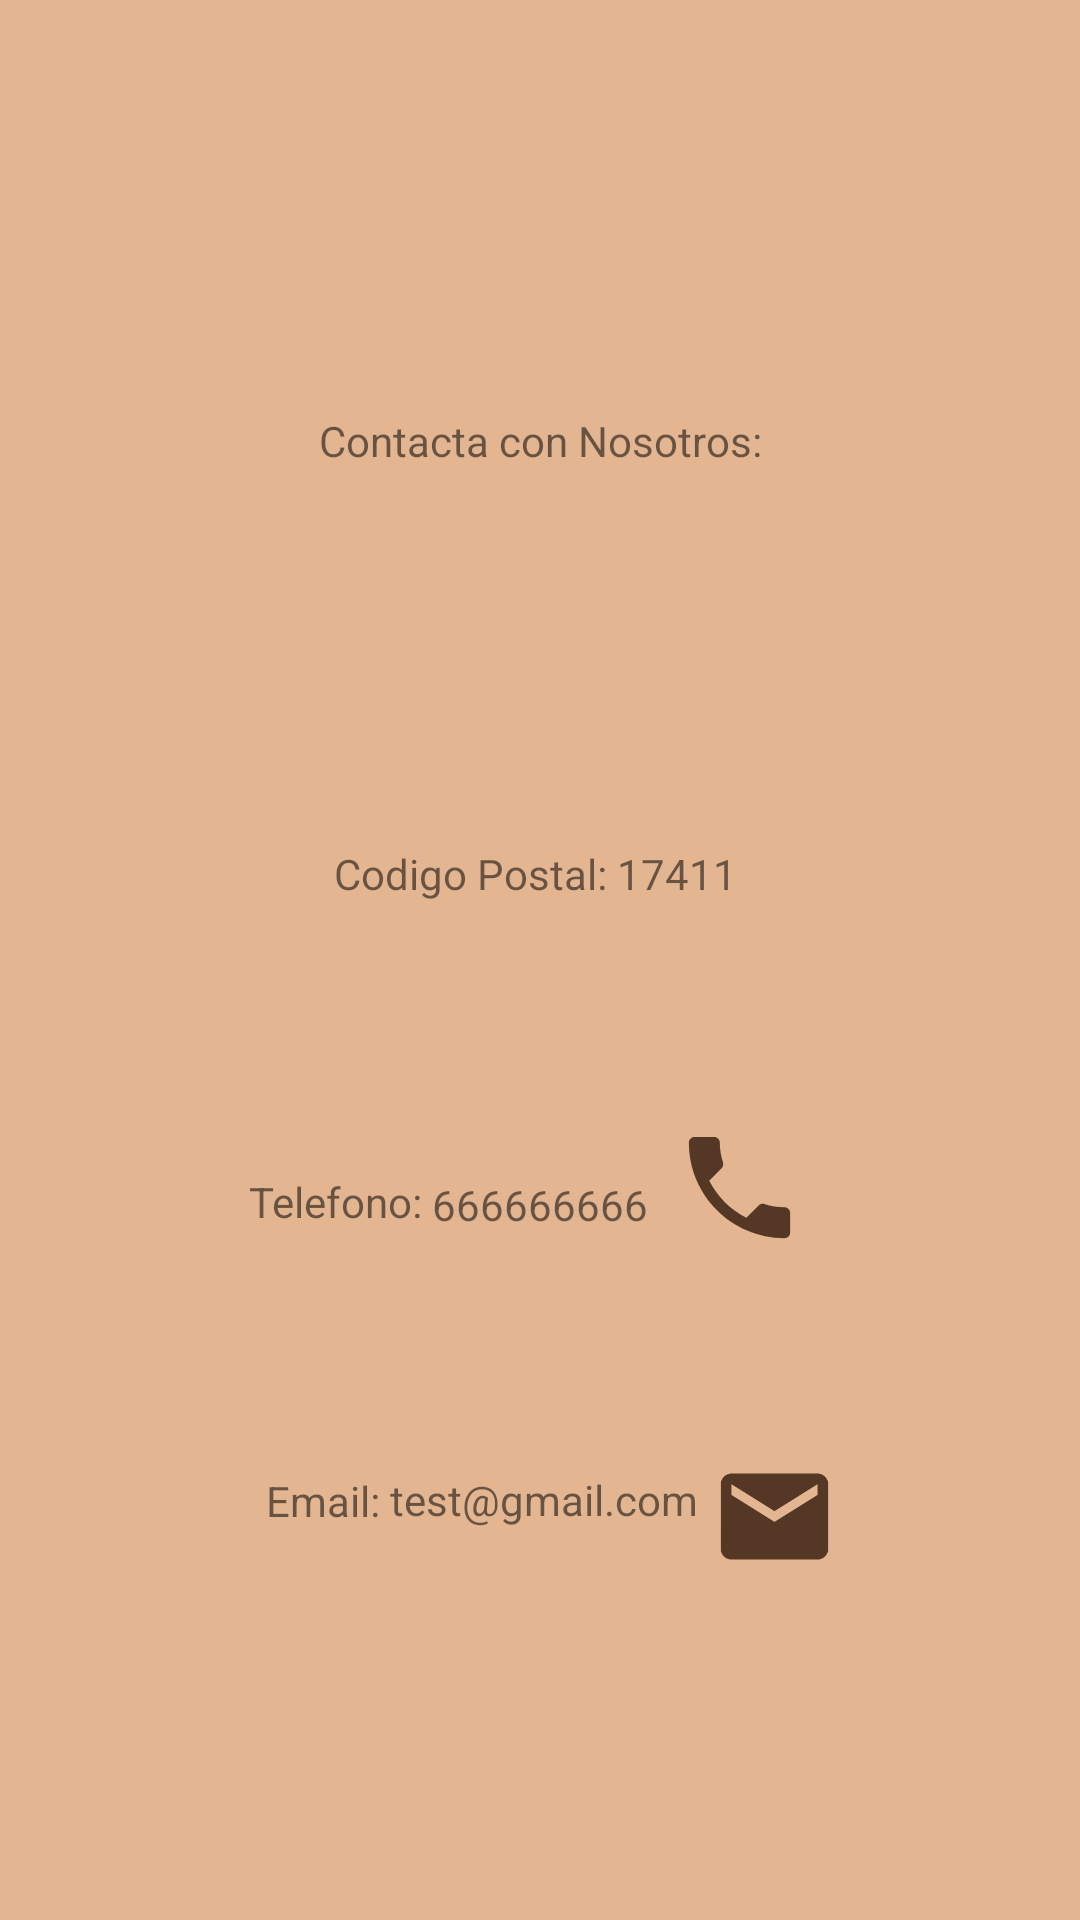

Icon bounding boxes for this 1080 × 1920 phone screenshot, format (x1, y1, x2, y2):
email: (721, 1473, 828, 1560)
local phone: (689, 1137, 790, 1239)
